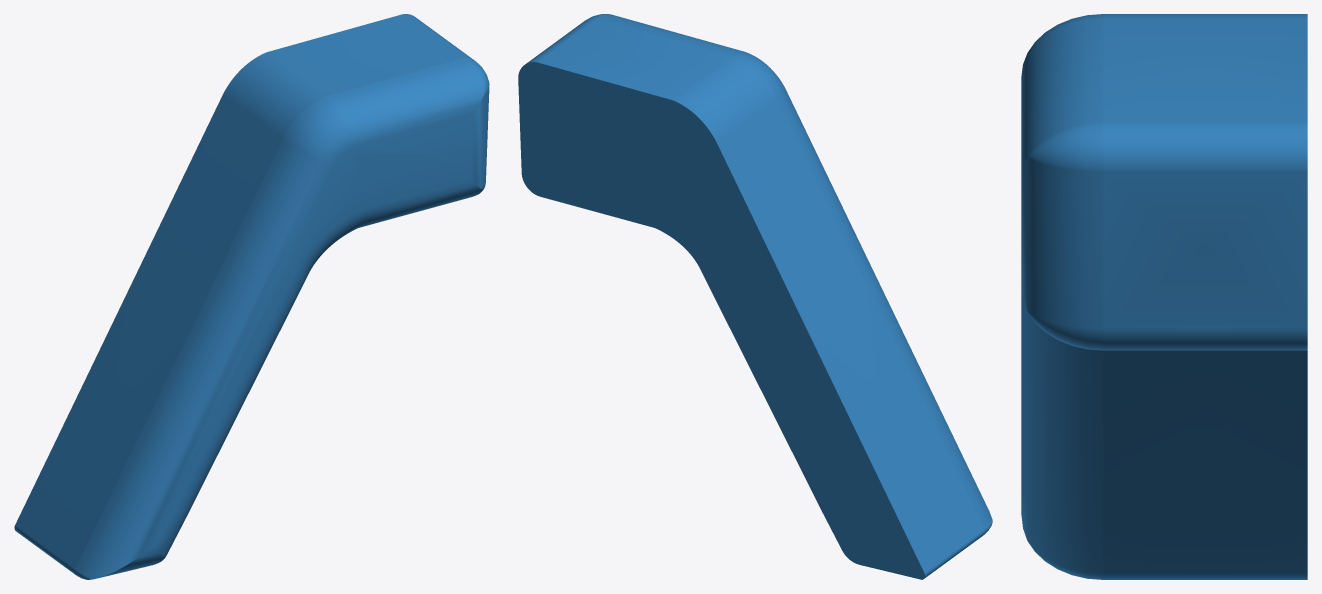
Rendered from puck.gltf.
The picture shows the model from 3 angles, left to right: view 1: azimuth 30°, elevation 25°; view 2: azimuth 150°, elevation 25°; view 3: azimuth 270°, elevation 25°; orthographic projection. The views are drawn at different scales.
Parts seen in each view (by area): view 1: unnamed_n3d; view 2: unnamed_n3d; view 3: unnamed_n3d.
Boxes of the visible parts, left/top/right/bottom form: unnamed_n3d: left=14, top=14, right=489, bottom=579; unnamed_n3d: left=518, top=14, right=992, bottom=579; unnamed_n3d: left=1021, top=14, right=1307, bottom=579.
Size of the model in its own units: 0.0516 by 0.0514 by 0.0185.
